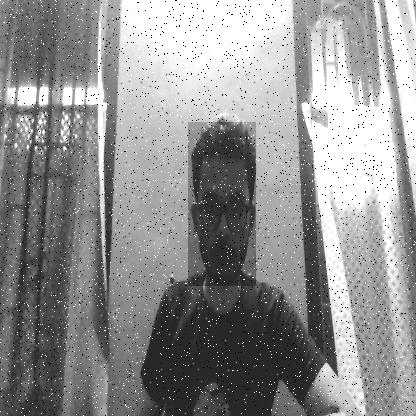Normal: (188, 122, 256, 286)
